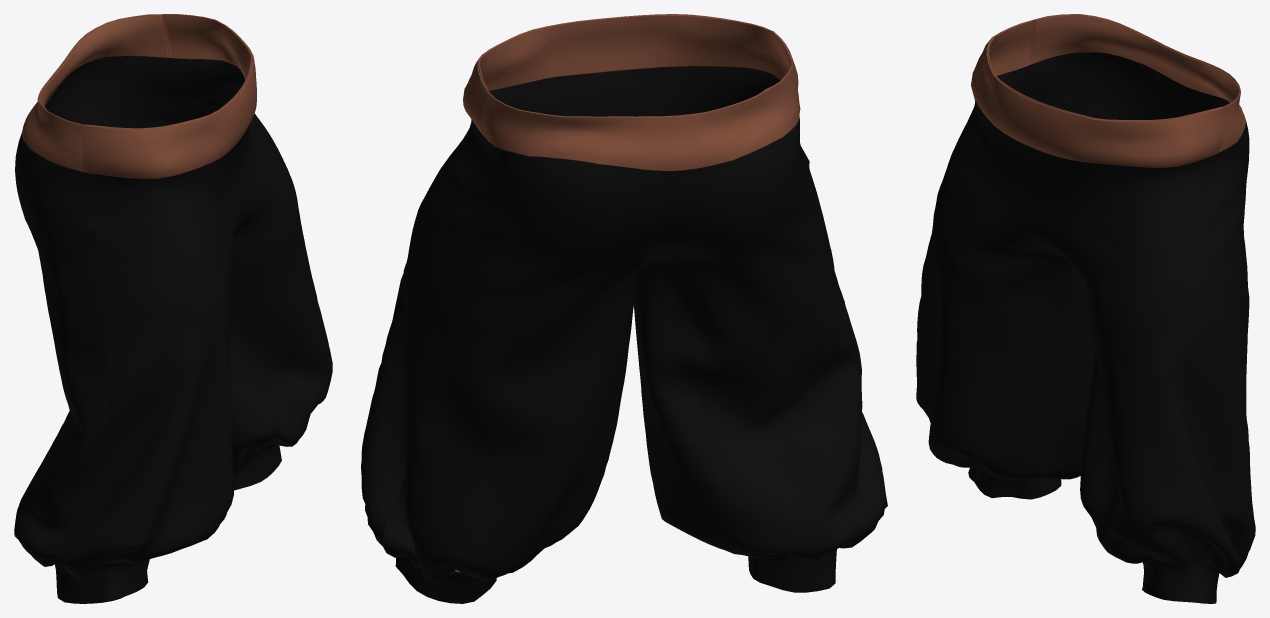
Rendered from COSSACK_BLOOMERS_3#20.glb.
3 renders of one model, left to right at view 1: azimuth 30°, elevation 25°; view 2: azimuth 150°, elevation 25°; view 3: azimuth 270°, elevation 25°, orthographic. The views are drawn at different scales.
Visible parts, largest first — view 1: niz_kazak_2_lev; view 2: niz_kazak_2_lev; view 3: niz_kazak_2_lev.
Boxes of the visible parts, x1,y1,x2,y2 form: niz_kazak_2_lev: (14, 14, 332, 603); niz_kazak_2_lev: (361, 14, 887, 603); niz_kazak_2_lev: (916, 14, 1255, 603).
Bounding box in the file's own units: 3.74 × 4.61 × 2.98.
Materials: 1 (1 with a texture image).
